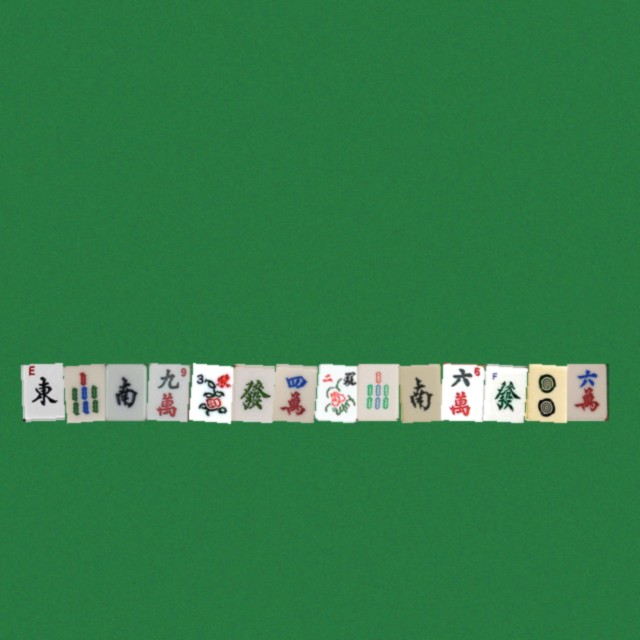tile: (20, 363, 62, 420), (62, 363, 104, 420), (104, 363, 146, 420), (146, 363, 188, 420), (188, 363, 230, 420), (230, 363, 272, 420), (272, 363, 314, 420), (314, 363, 356, 420), (356, 363, 398, 420), (398, 363, 440, 420), (440, 363, 482, 420), (482, 363, 524, 420), (524, 363, 566, 420), (566, 363, 608, 420)
